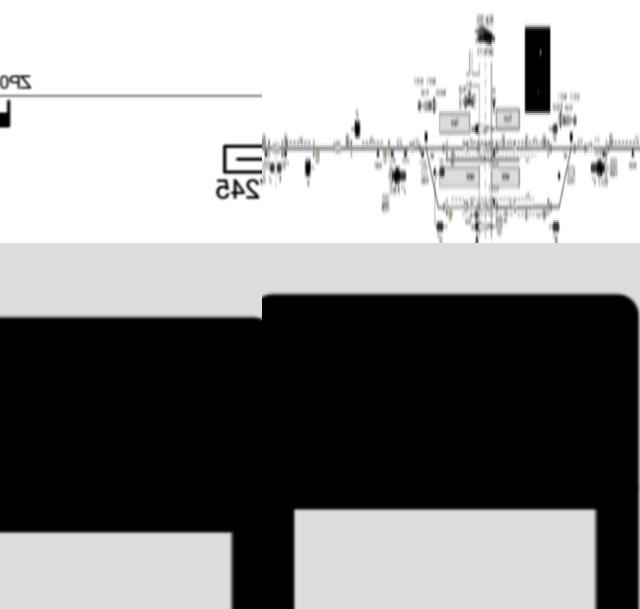mainsignal: (548, 221, 560, 234), (436, 220, 447, 232)
radzaehler: (262, 269, 640, 609), (0, 292, 262, 609), (0, 90, 22, 132), (420, 146, 424, 160), (264, 147, 268, 159), (390, 147, 394, 159), (602, 147, 605, 159), (404, 146, 407, 156), (284, 148, 286, 158)
trackjoint: (442, 201, 446, 212), (476, 143, 479, 155), (442, 143, 445, 155), (476, 201, 479, 212), (584, 144, 587, 154), (573, 145, 576, 153), (550, 201, 552, 212), (496, 203, 498, 214), (550, 144, 552, 154), (496, 144, 498, 151)
tracknumber: (332, 138, 343, 157), (271, 139, 280, 156), (408, 140, 414, 155), (513, 196, 517, 217), (463, 141, 469, 154), (463, 200, 469, 213), (588, 140, 593, 155), (512, 139, 516, 156)
weiche: (424, 130, 428, 149), (569, 131, 573, 148)
